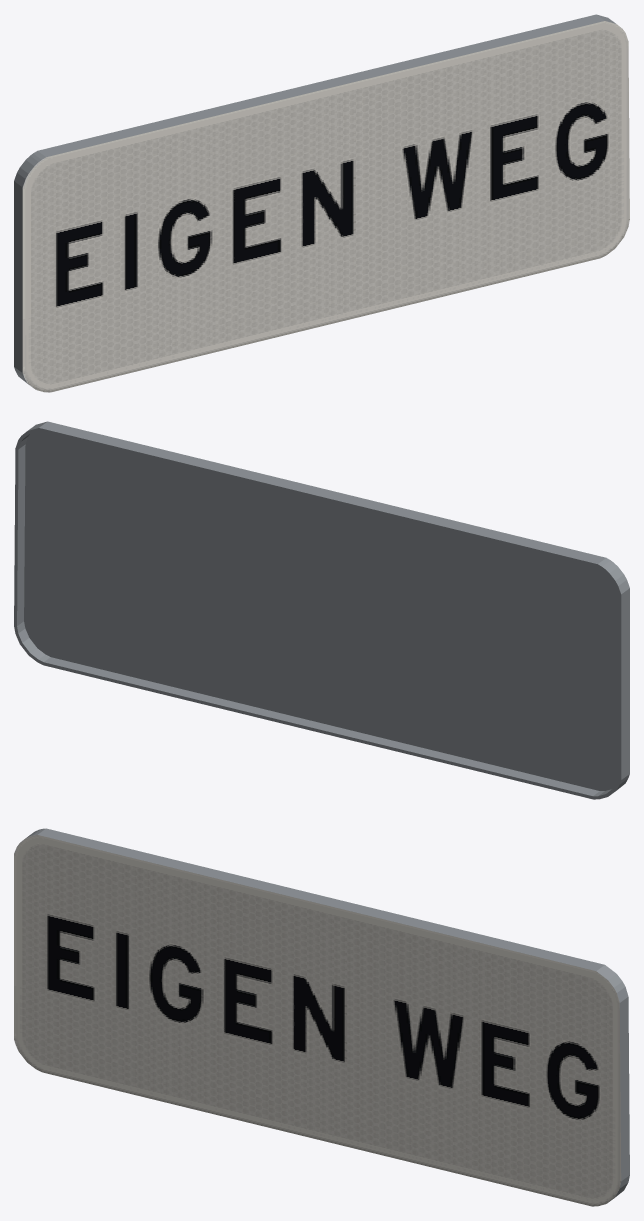
3 views of the same model, one above another, from view 1: azimuth 30°, elevation 25°; view 2: azimuth 150°, elevation 25°; view 3: azimuth 330°, elevation 25° (orthographic).
Parts seen in each view (by area): view 1: cat_0583844f96e2fa0f; view 2: cat_0583844f96e2fa0f; view 3: cat_0583844f96e2fa0f.
Boxes of the visible parts, bbox=[...] form: cat_0583844f96e2fa0f: bbox=[14, 14, 629, 392]; cat_0583844f96e2fa0f: bbox=[14, 421, 629, 799]; cat_0583844f96e2fa0f: bbox=[14, 828, 629, 1206].
Size of the model in its own units: 0.6 by 0.015 by 0.2232.
2 materials, 1 textured.
